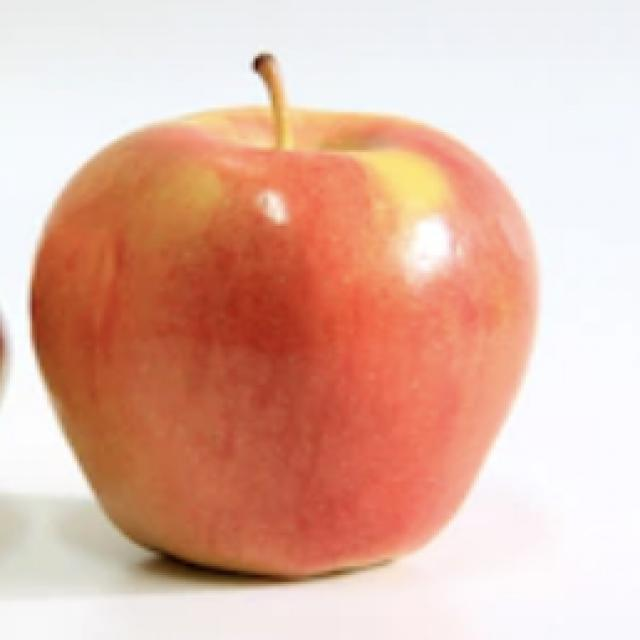Fresh Apple: (47, 102, 535, 578)
